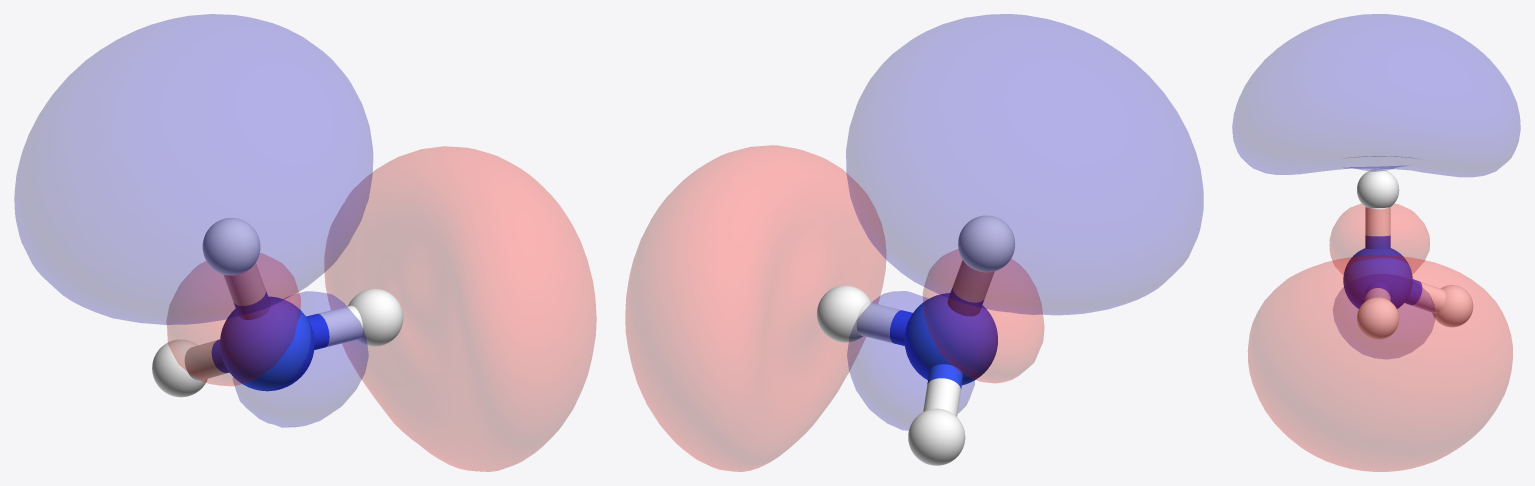
The picture shows the model from 3 angles, left to right: view 1: azimuth 30°, elevation 25°; view 2: azimuth 150°, elevation 25°; view 3: azimuth 270°, elevation 25°; orthographic projection. The views are drawn at different scales.
Parts seen in each view (by area): view 1: surface (×2), atoms, bonds; view 2: surface (×2), atoms, bonds; view 3: surface (×2), atoms, bonds.
Part boxes in pixels (x1,y1,x2,y2): surface (×2): [14, 14, 596, 471]; atoms: [152, 218, 403, 397]; bonds: [184, 263, 362, 380]; surface (×2): [625, 14, 1203, 471]; atoms: [817, 215, 1015, 465]; bonds: [856, 260, 994, 416]; surface (×2): [1232, 14, 1520, 471]; atoms: [1343, 169, 1473, 339]; bonds: [1365, 207, 1445, 313].
Size of the model in its own units: 5.28 by 4.61 by 3.4.
